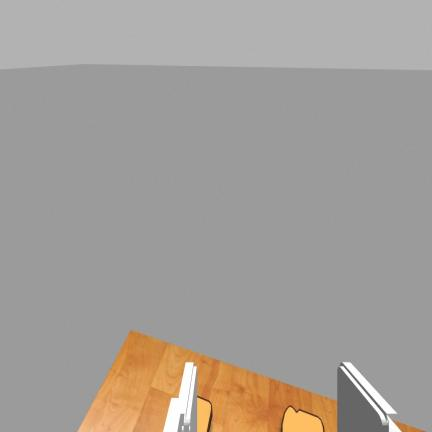sliced_bread: (281, 406, 324, 431), (197, 397, 212, 431)
